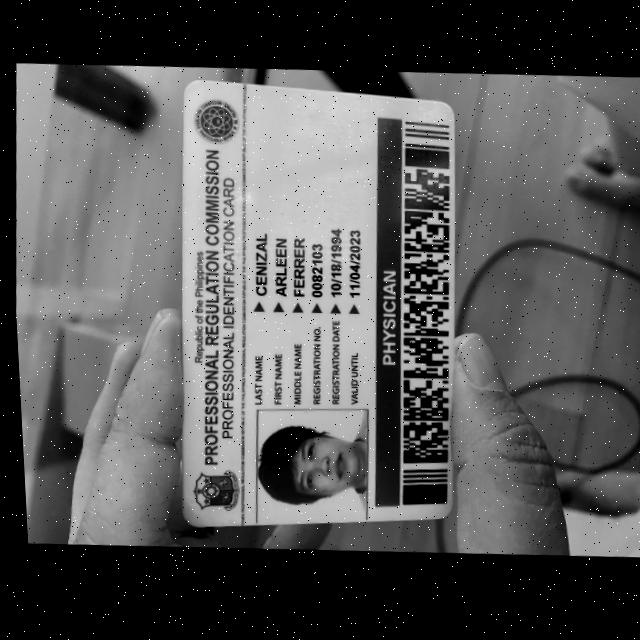card: (183, 81, 454, 526)
